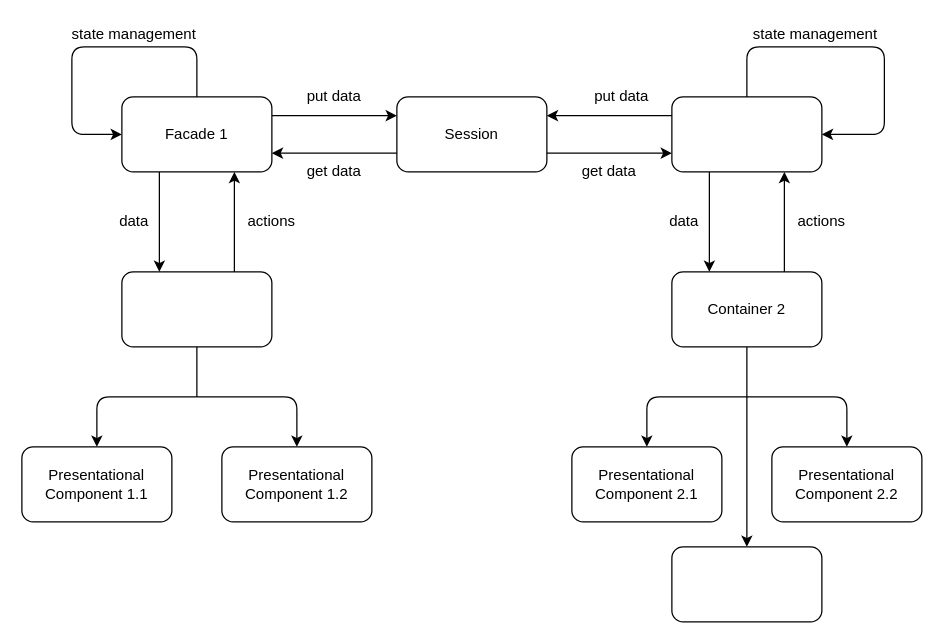
This 944x644 diagram has some shape labels left out. Each missing label, with the centre of its shape:
"Container 1" belongs at point 196,309.
"Facade 2" belongs at point 746,134.
"Presentational Component 2.3" belongs at point 746,584.
